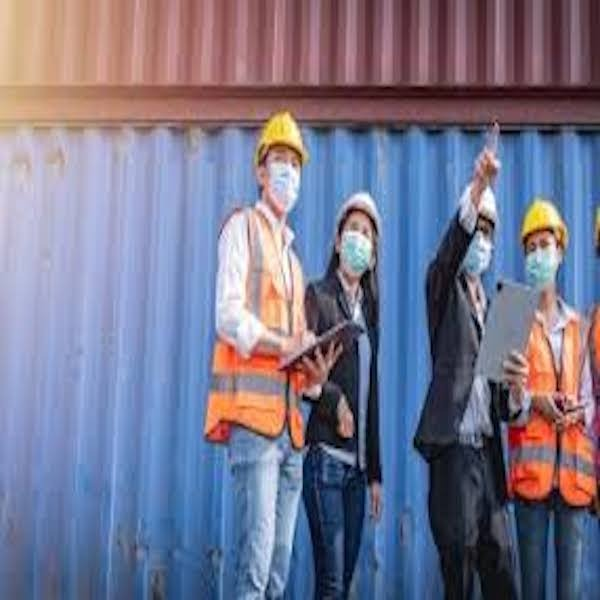helmet: (252, 114, 309, 156), (520, 199, 573, 236), (342, 190, 389, 221)
vest: (216, 220, 312, 435), (513, 313, 585, 495)
